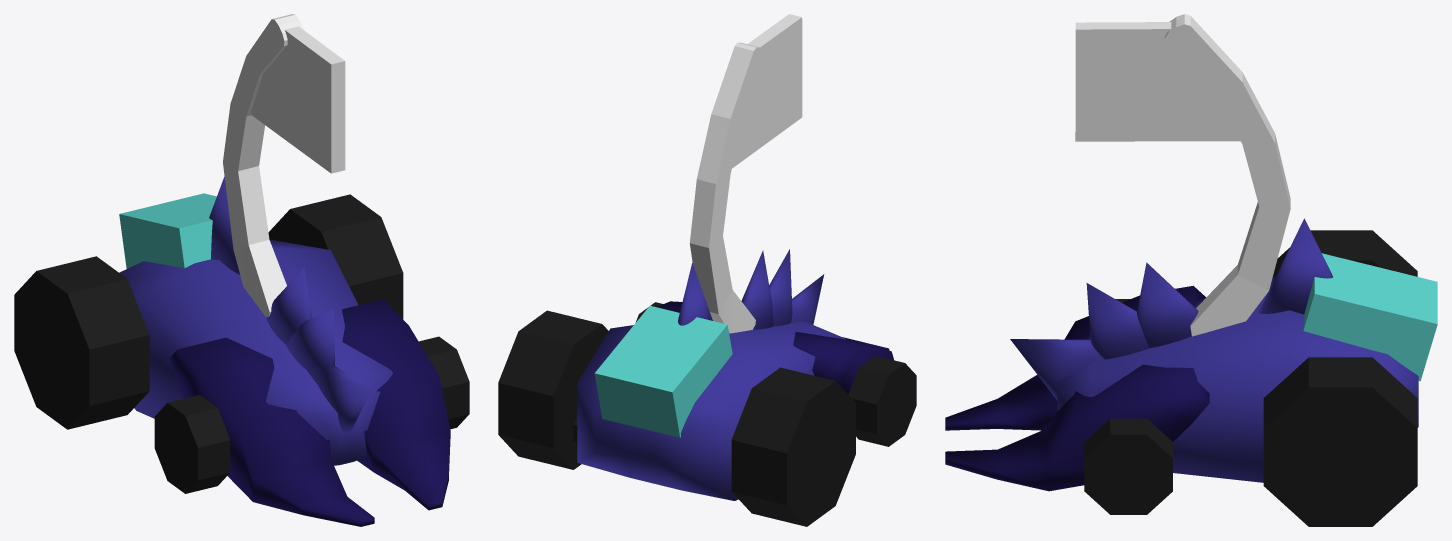
Rendered from robot_test01_design.fbx.
3 views of the same model, side by side, from view 1: azimuth 30°, elevation 25°; view 2: azimuth 150°, elevation 25°; view 3: azimuth 270°, elevation 25° (orthographic). The views are drawn at different scales.
Visible parts, largest first — view 1: bumper_shape2, body_shape3, wheels_shape2_1, arm_shape2, wheels_shape2, battery_shape; view 2: body_shape3, wheels_shape2_1, arm_shape2, battery_shape, wheels_shape2, bumper_shape2; view 3: body_shape3, wheels_shape2, arm_shape2, bumper_shape2, battery_shape, wheels_shape2_1.
Boxes of the visible parts, left/top/right/bottom form: bumper_shape2: left=170, top=299, right=450, bottom=526; body_shape3: left=119, top=176, right=392, bottom=465; wheels_shape2_1: left=14, top=256, right=230, bottom=493; arm_shape2: left=223, top=14, right=345, bottom=317; wheels_shape2: left=268, top=194, right=469, bottom=429; battery_shape: left=119, top=193, right=216, bottom=268; body_shape3: left=577, top=249, right=845, bottom=500; wheels_shape2_1: left=731, top=356, right=916, bottom=526; arm_shape2: left=689, top=14, right=802, bottom=333; battery_shape: left=594, top=305, right=732, bottom=437; wheels_shape2: left=498, top=302, right=662, bottom=469; bumper_shape2: left=656, top=301, right=893, bottom=393; body_shape3: left=1010, top=218, right=1418, bottom=482; wheels_shape2: left=1084, top=357, right=1417, bottom=526; arm_shape2: left=1075, top=14, right=1290, bottom=336; bumper_shape2: left=945, top=285, right=1209, bottom=491; battery_shape: left=1303, top=253, right=1437, bottom=381; wheels_shape2_1: left=1115, top=230, right=1417, bottom=302.
Size of the model in its own units: 0.3908 by 0.4979 by 0.5177.
